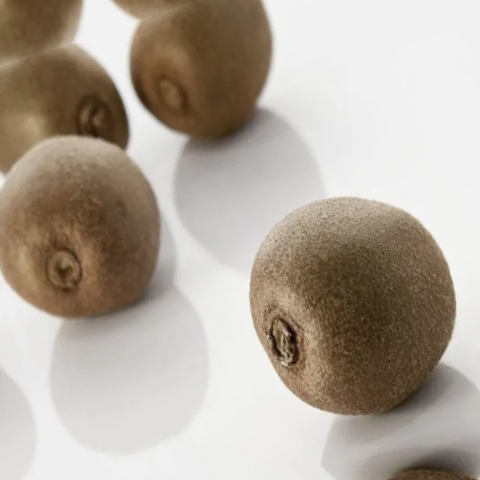kiwi: (200, 147, 480, 460), (0, 104, 214, 358)
